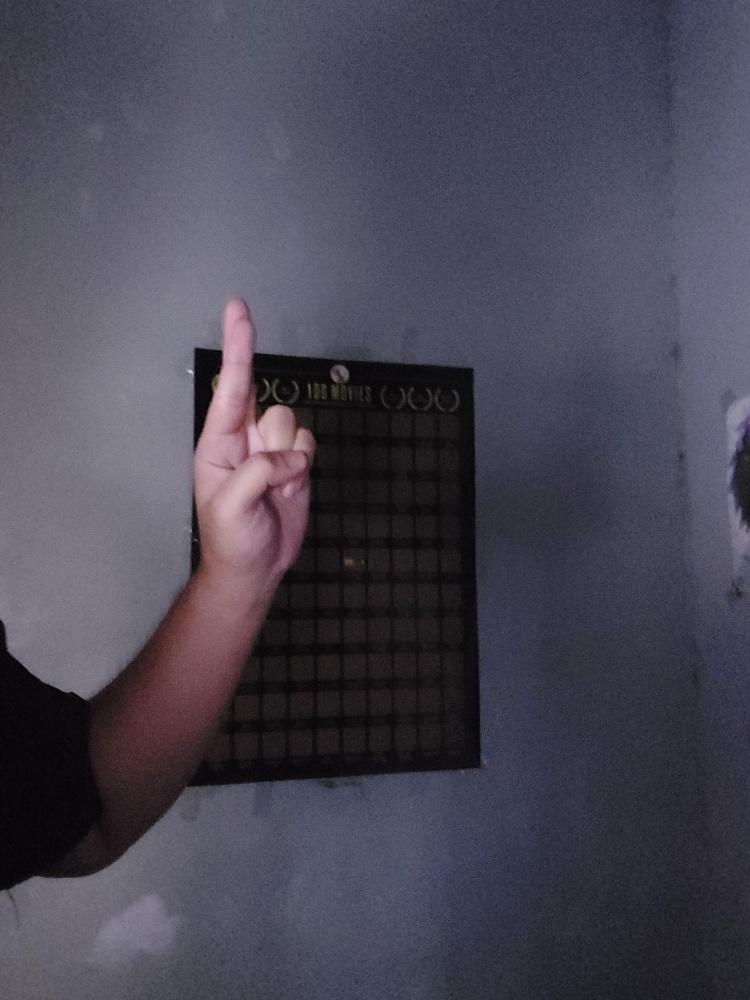r: (188, 292, 317, 574)
